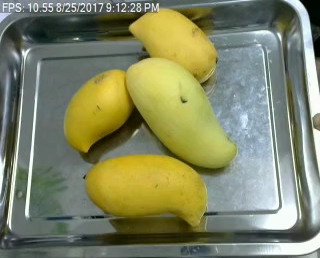Mango: (124, 56, 235, 167), (85, 153, 211, 233), (129, 5, 226, 85), (64, 67, 142, 155)
